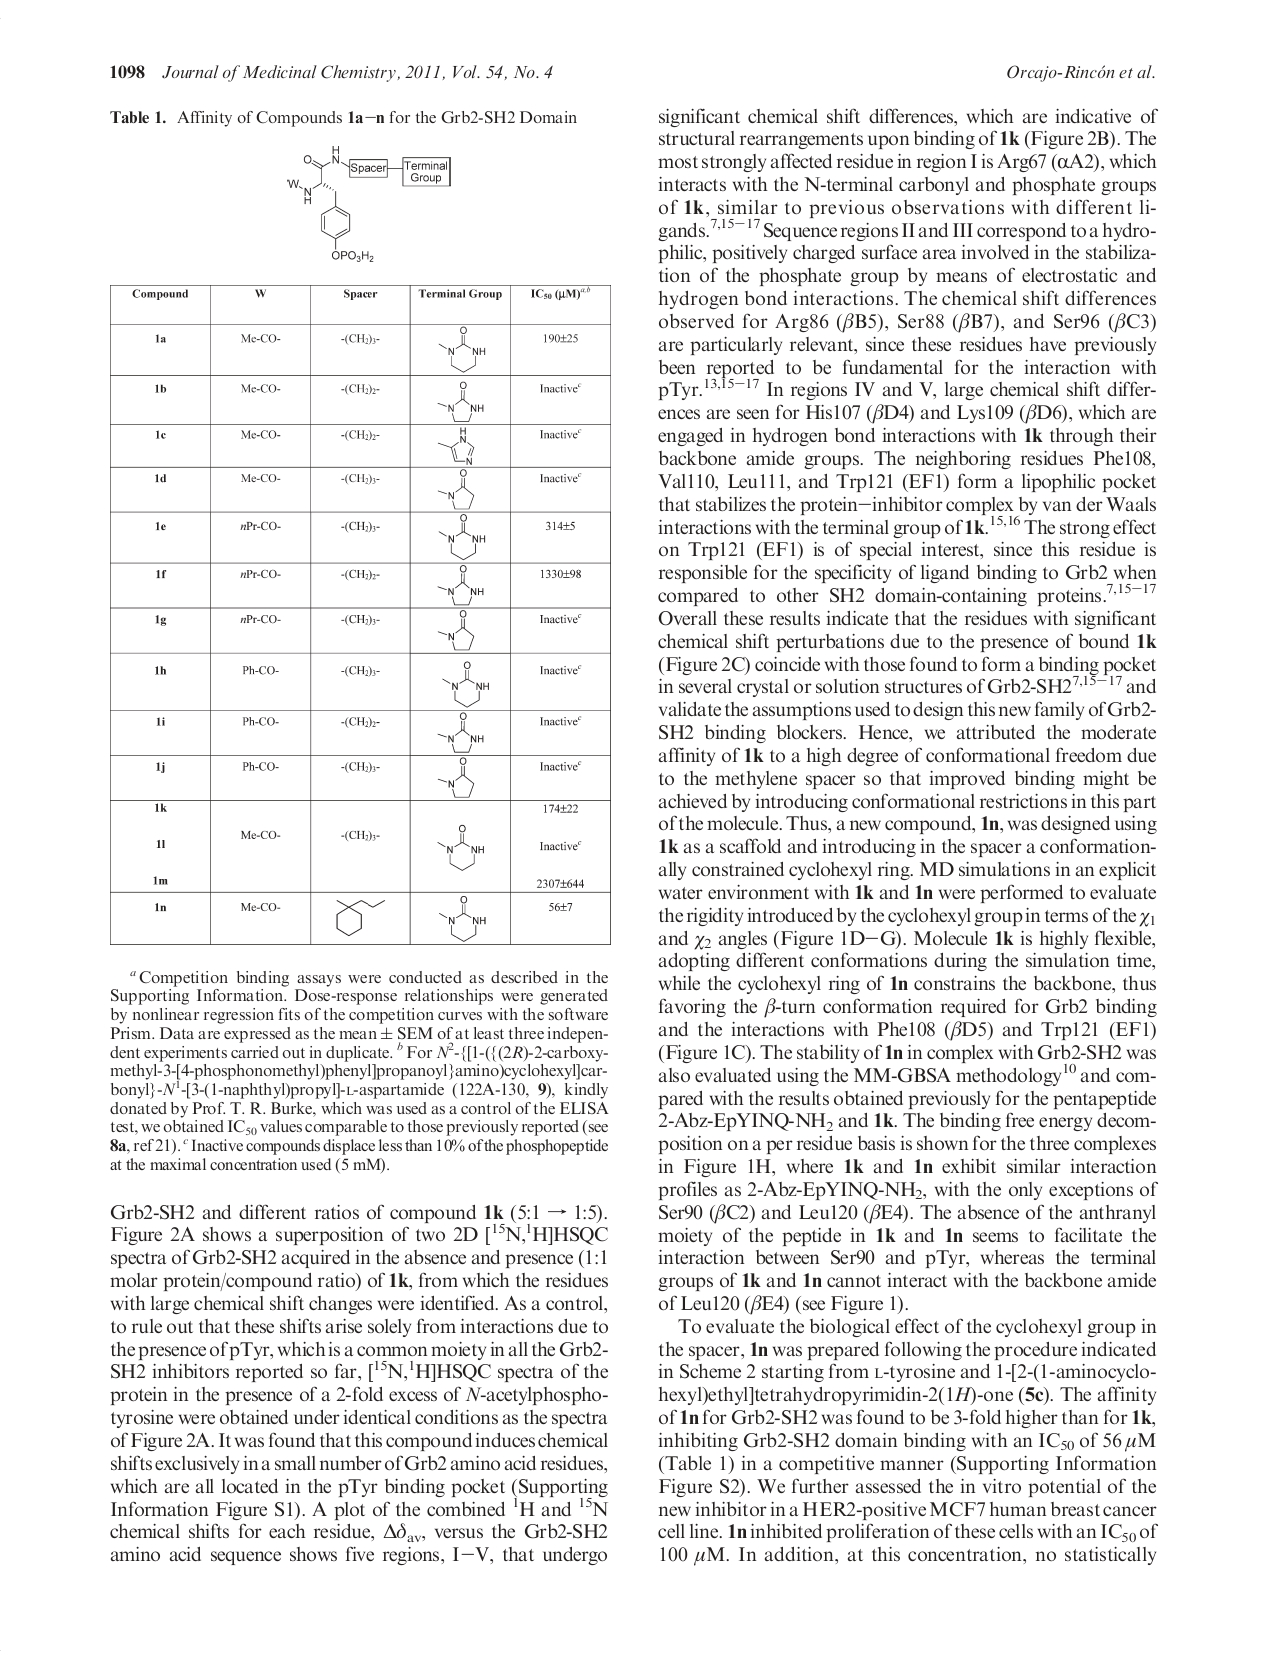exist_molecular: (277, 138, 457, 265), (435, 324, 488, 374), (435, 825, 487, 872), (330, 896, 390, 938), (438, 895, 488, 943), (436, 513, 485, 560), (442, 661, 491, 707), (435, 380, 485, 422), (436, 711, 485, 753), (438, 564, 484, 606), (435, 755, 477, 798), (435, 609, 476, 652), (436, 426, 477, 464), (436, 468, 475, 509)
